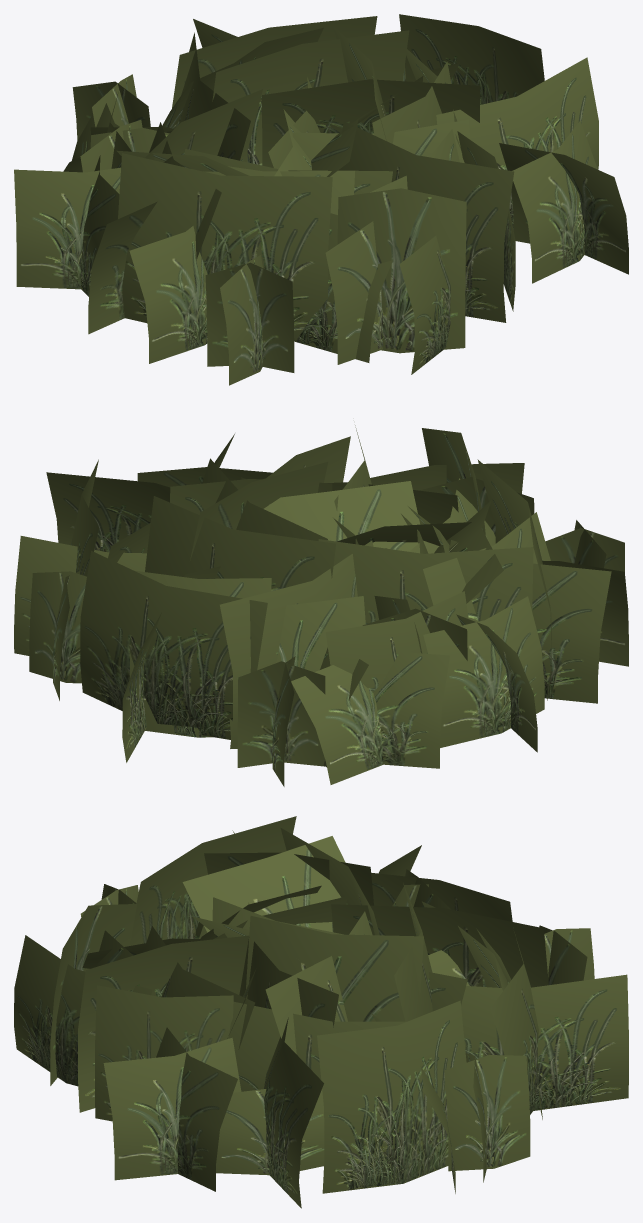
The model's file is SM_Grass_big_clump_A1.fbx.
3 views of the same model, one above another, from view 1: azimuth 30°, elevation 25°; view 2: azimuth 150°, elevation 25°; view 3: azimuth 270°, elevation 25° (orthographic). The views are drawn at different scales.
Visible parts, largest first — view 1: SM_Grass_big_clump_A1; view 2: SM_Grass_big_clump_A1; view 3: SM_Grass_big_clump_A1.
Boxes of the visible parts, x1,y1,x2,y2 form: SM_Grass_big_clump_A1: (14, 14, 628, 385); SM_Grass_big_clump_A1: (14, 425, 628, 786); SM_Grass_big_clump_A1: (14, 816, 628, 1208).
Bounding box in the file's own units: 149 × 48.29 × 147.
